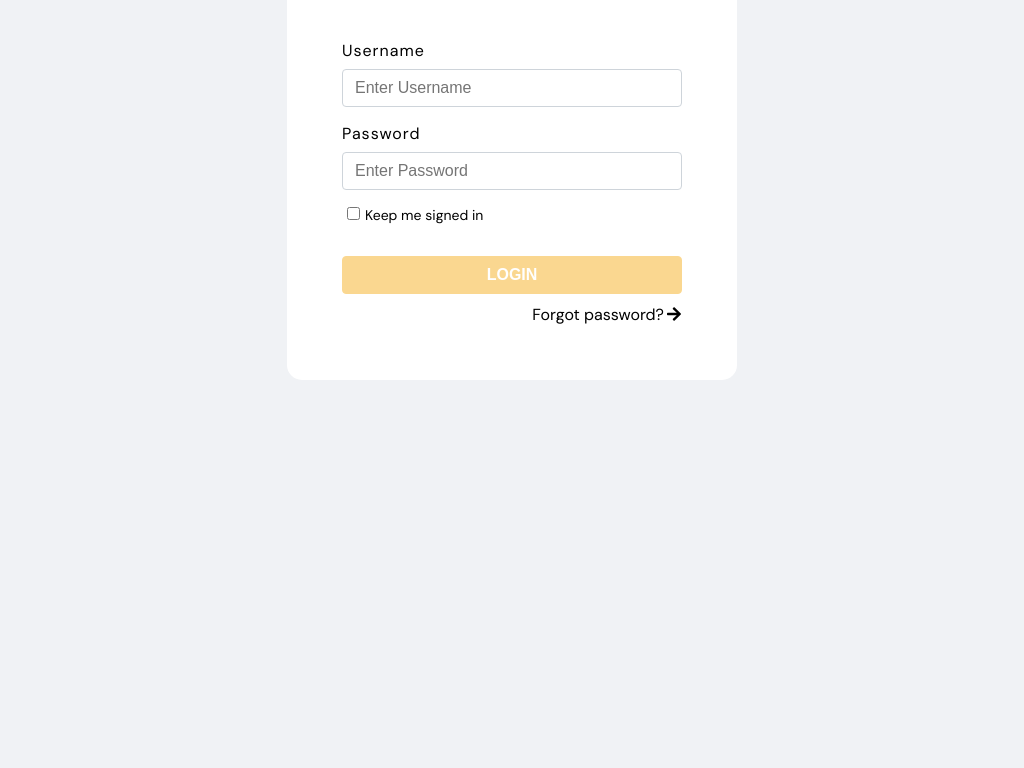
Test: SigIn › Button › should be enabled with inputs
Check: the button is disabled, box [342,256,682,294]
Type "manny" into the field labelled "Username".
click(512, 88); type("manny")  # box [342,69,682,107]
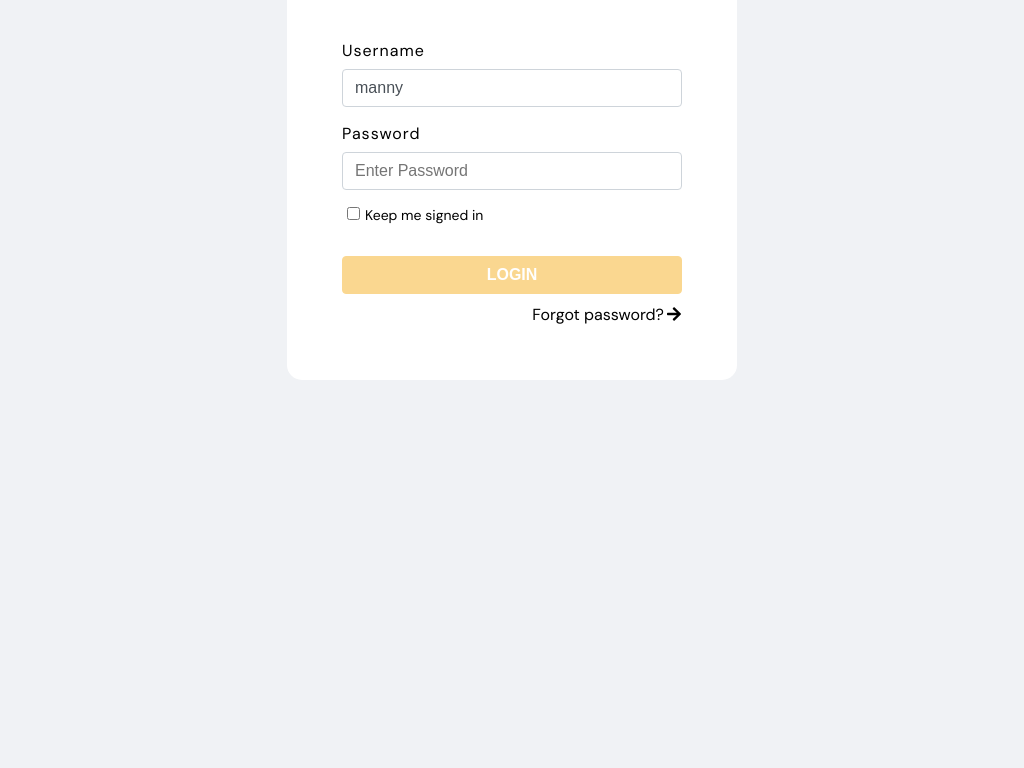
Type "qwerty" into the field labelled "Password".
click(512, 171); type("qwerty")  # box [342,152,682,190]
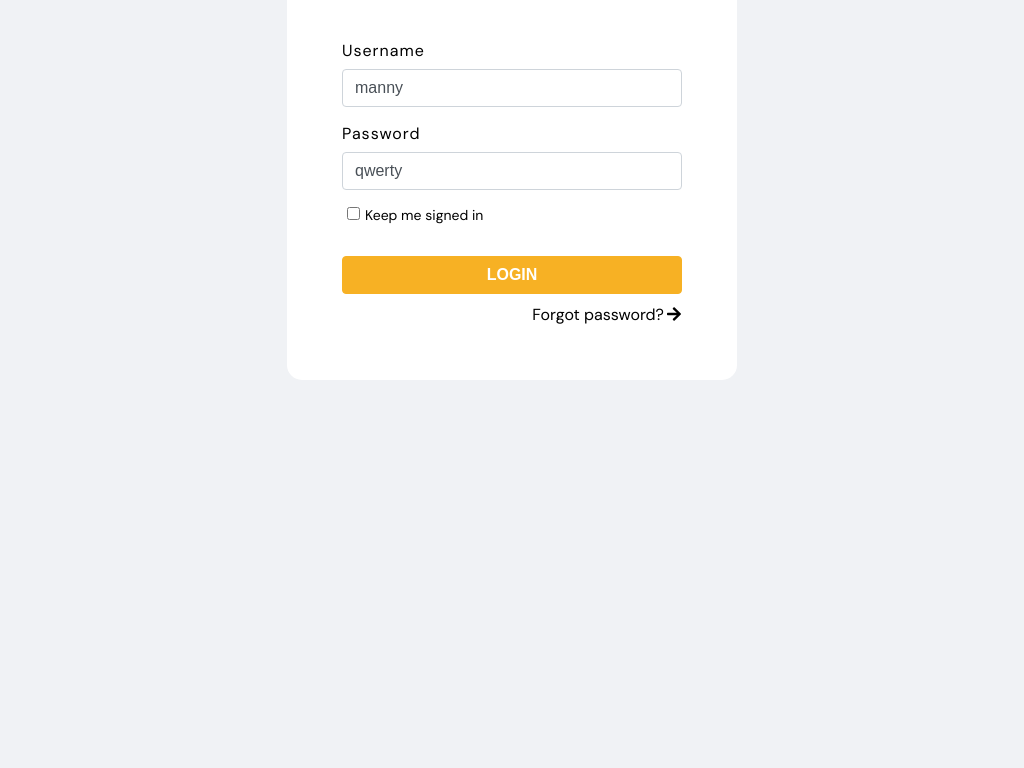
Check: the button is enabled, box [342,256,682,294]
